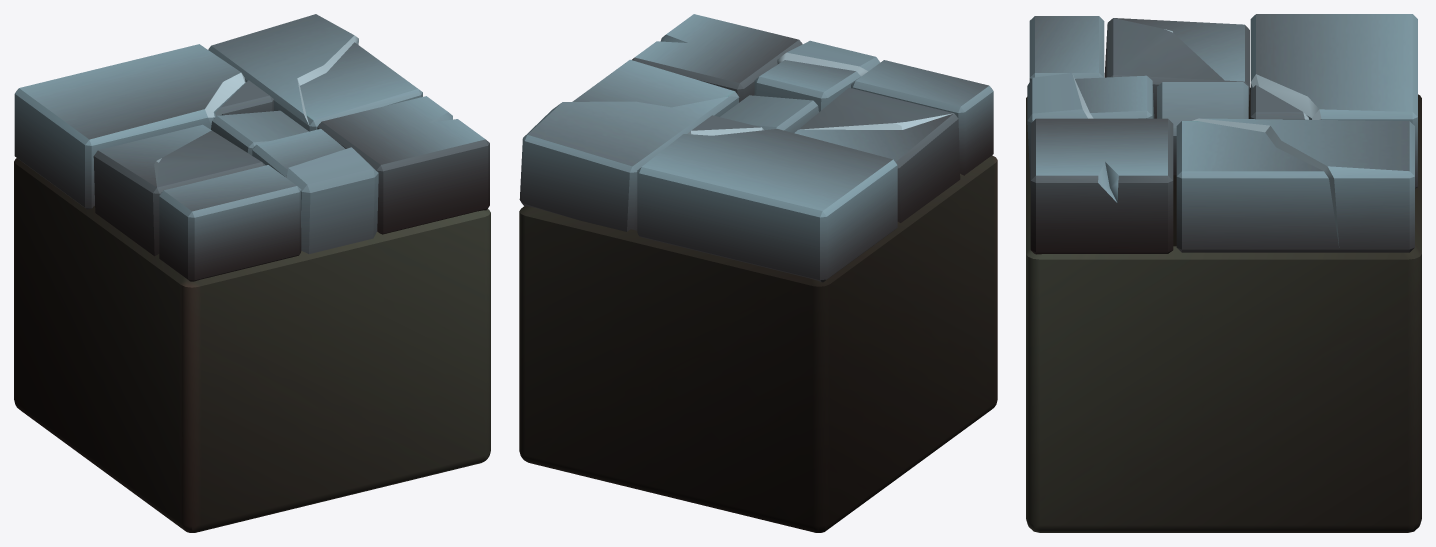
The model's file is StoneFloor_Top_Cube.fbx.
3 views of the same model, side by side, from view 1: azimuth 30°, elevation 25°; view 2: azimuth 150°, elevation 25°; view 3: azimuth 270°, elevation 25° (orthographic). The views are drawn at different scales.
Visible parts, largest first — view 1: StoneFloor_Top_Cube; view 2: StoneFloor_Top_Cube; view 3: StoneFloor_Top_Cube.
Boxes of the visible parts, x1,y1,x2,y2 form: StoneFloor_Top_Cube: [14, 14, 490, 532]; StoneFloor_Top_Cube: [519, 14, 997, 532]; StoneFloor_Top_Cube: [1026, 14, 1421, 532].
Size of the model in its own units: 201 by 205 by 200.
